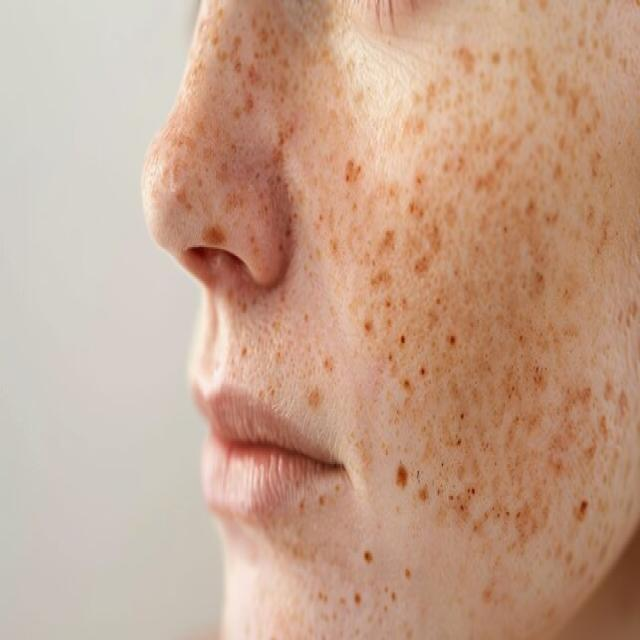pigmentation: (229, 41, 586, 502)
